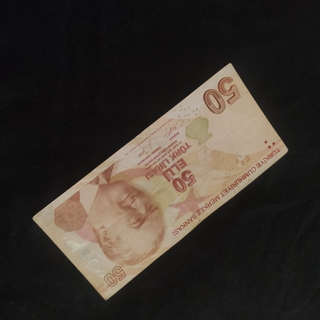50TLFront: (32, 61, 288, 301)
